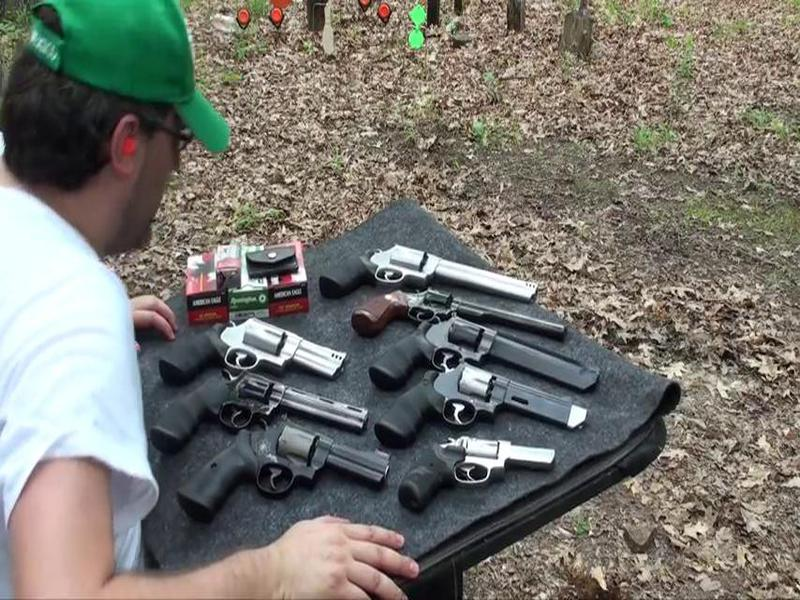Revolver: (315, 234, 542, 301)
